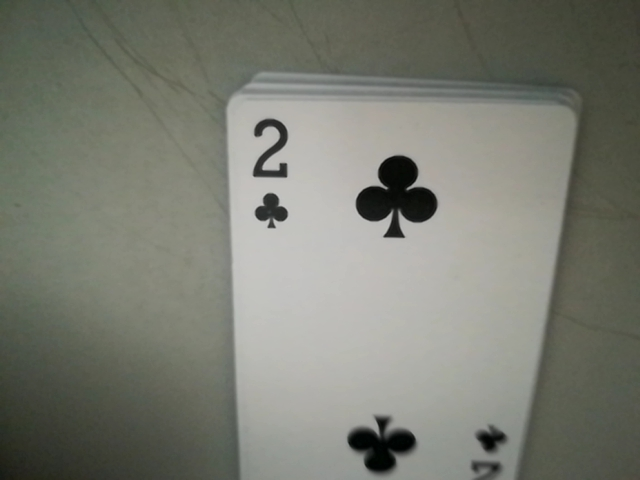mh 2: (232, 105, 298, 236)
